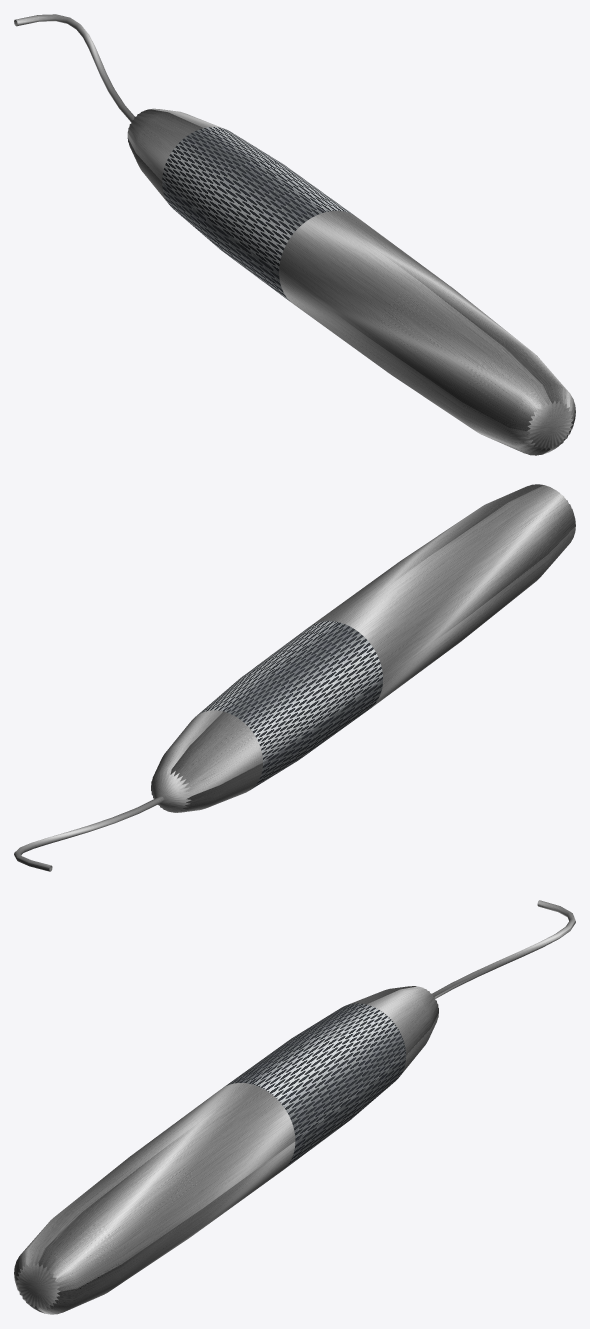
Rendered from excavador.fbx.
3 renders of one model, top to bottom at view 1: azimuth 30°, elevation 25°; view 2: azimuth 150°, elevation 25°; view 3: azimuth 330°, elevation 25°, orthographic. The views are drawn at different scales.
Visible parts, largest first — view 1: Cilindro, Curva Bezier; view 2: Cilindro, Curva Bezier; view 3: Cilindro, Curva Bezier.
Boxes of the visible parts, box(x1,y1,x2,y2) form: Cilindro: box(127, 108, 575, 455); Curva Bezier: box(14, 14, 134, 122); Cilindro: box(151, 484, 575, 812); Curva Bezier: box(14, 796, 164, 871); Cilindro: box(14, 986, 438, 1314); Curva Bezier: box(432, 900, 575, 998).
Bounding box in the file's own units: 186 × 186 × 1852.
Materials: 2 (2 with a texture image).
